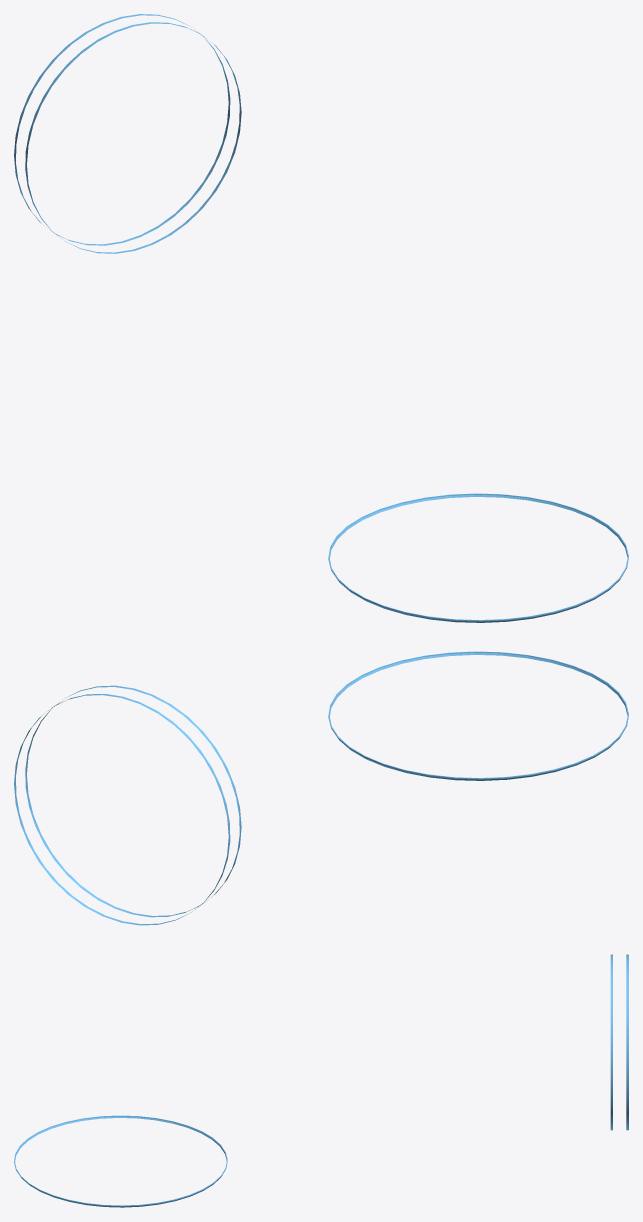
File: ur3e_scaled_17.obj
3 views of the same model, one above another, from view 1: azimuth 30°, elevation 25°; view 2: azimuth 150°, elevation 25°; view 3: azimuth 270°, elevation 25° (orthographic). The views are drawn at different scales.
Bounding box in the file's own units: 0.075 × 0.0775 × 0.2157.
